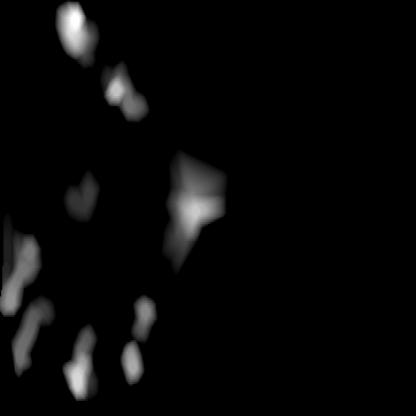fingers: (55, 2, 97, 64)
palm: (5, 242, 154, 392)
thumb: (64, 67, 210, 256)
